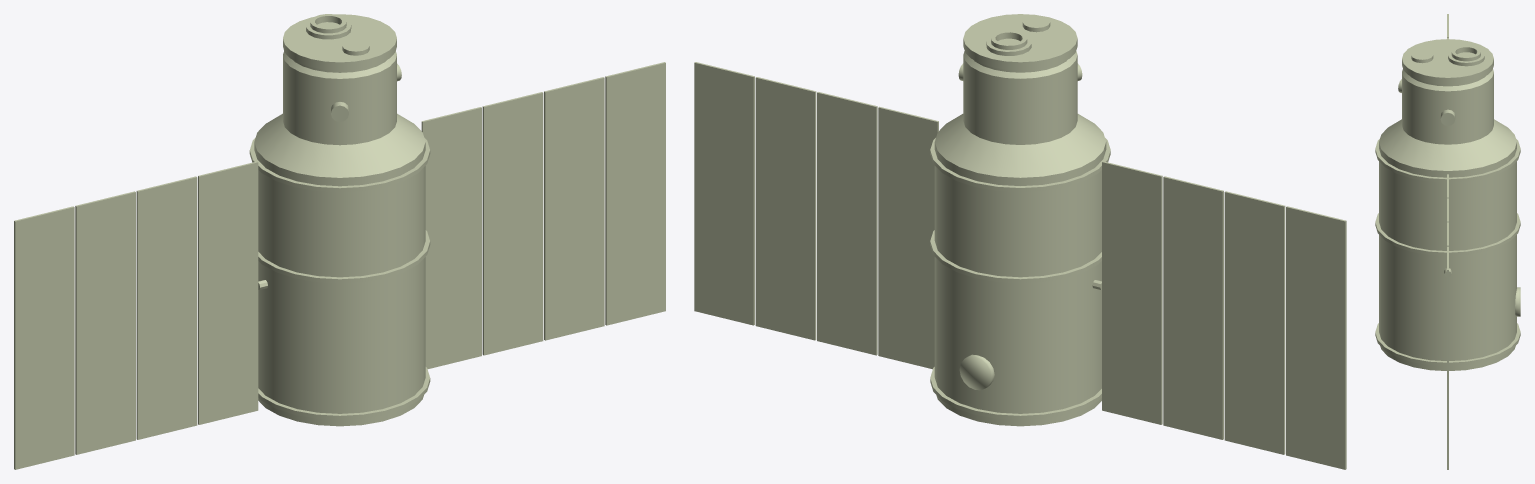
File: Meteor.obj
3 views of the same model, side by side, from view 1: azimuth 30°, elevation 25°; view 2: azimuth 150°, elevation 25°; view 3: azimuth 270°, elevation 25° (orthographic). The views are drawn at different scales.
Visible parts, largest first — view 1: Cylinder3; view 2: Cylinder3; view 3: Cylinder3.
Boxes of the visible parts, box(x1,y1,x2,y2) form: Cylinder3: box(14, 14, 665, 469); Cylinder3: box(694, 14, 1346, 469); Cylinder3: box(1375, 14, 1520, 469).
Size of the model in its own units: 4.11 by 2.17 by 0.9875.
